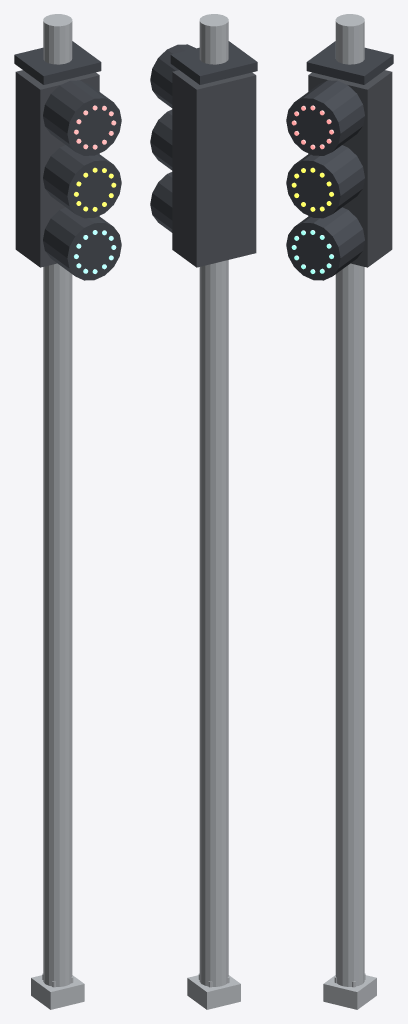
Rendered from traffic_signal.glb.
3 views of the same model, side by side, from view 1: azimuth 30°, elevation 25°; view 2: azimuth 210°, elevation 25°; view 3: azimuth 330°, elevation 25° (orthographic).
Visible parts, largest first — view 1: Pole, Housing, Hood_0, Hood_1, Hood_2, VisorTop, Base; view 2: Pole, Housing, VisorTop, Base, Hood_0, Hood_2, Hood_1; view 3: Pole, Housing, Hood_0, Hood_1, Hood_2, VisorTop, Base.
Part boxes in pixels (x1=…): Pole: x1=43, y1=14, x2=72, y2=986; Housing: x1=15, y1=70, x2=99, y2=267; Hood_0: x1=43, y1=80, x2=121, y2=155; Hood_1: x1=43, y1=145, x2=121, y2=218; Hood_2: x1=43, y1=207, x2=121, y2=280; VisorTop: x1=14, y1=41, x2=101, y2=84; Base: x1=31, y1=975, x2=84, y2=1009; Pole: x1=199, y1=14, x2=228, y2=986; Housing: x1=172, y1=70, x2=256, y2=267; VisorTop: x1=170, y1=41, x2=257, y2=84; Base: x1=187, y1=975, x2=240, y2=1009; Hood_0: x1=150, y1=44, x2=195, y2=107; Hood_2: x1=150, y1=172, x2=172, y2=232; Hood_1: x1=150, y1=109, x2=172, y2=170; Pole: x1=335, y1=14, x2=364, y2=986; Housing: x1=308, y1=70, x2=392, y2=267; Hood_0: x1=286, y1=80, x2=364, y2=155; Hood_1: x1=286, y1=145, x2=364, y2=218; Hood_2: x1=286, y1=207, x2=364, y2=280; VisorTop: x1=306, y1=41, x2=393, y2=84; Base: x1=323, y1=975, x2=376, y2=1009.
Bounding box in the file's own units: 0.035 × 0.55 × 0.0535.
